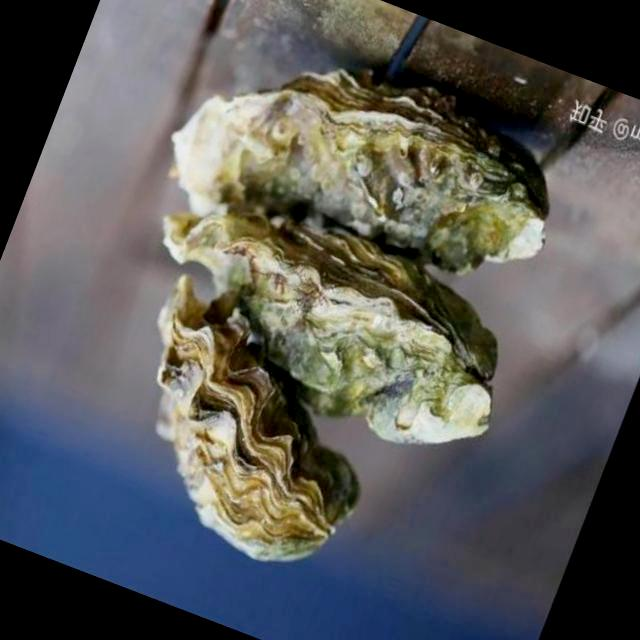Oyster-Closed: (162, 213, 500, 443), (170, 71, 550, 275), (157, 274, 360, 564)
